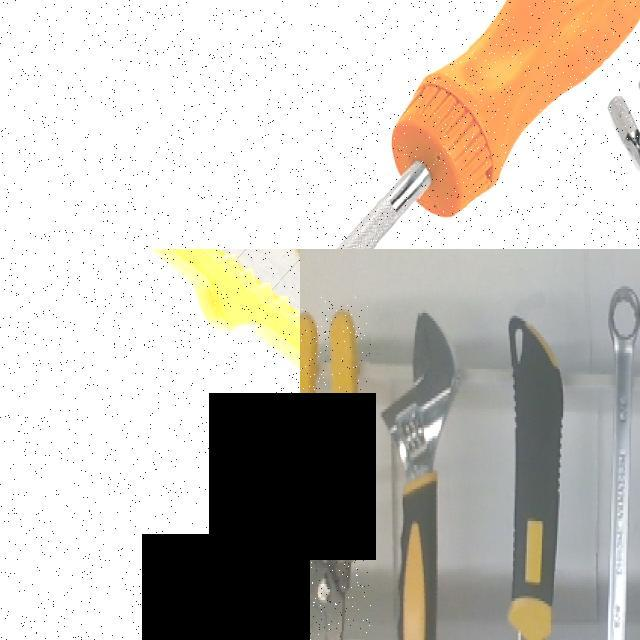estilete: (508, 317, 562, 639)
